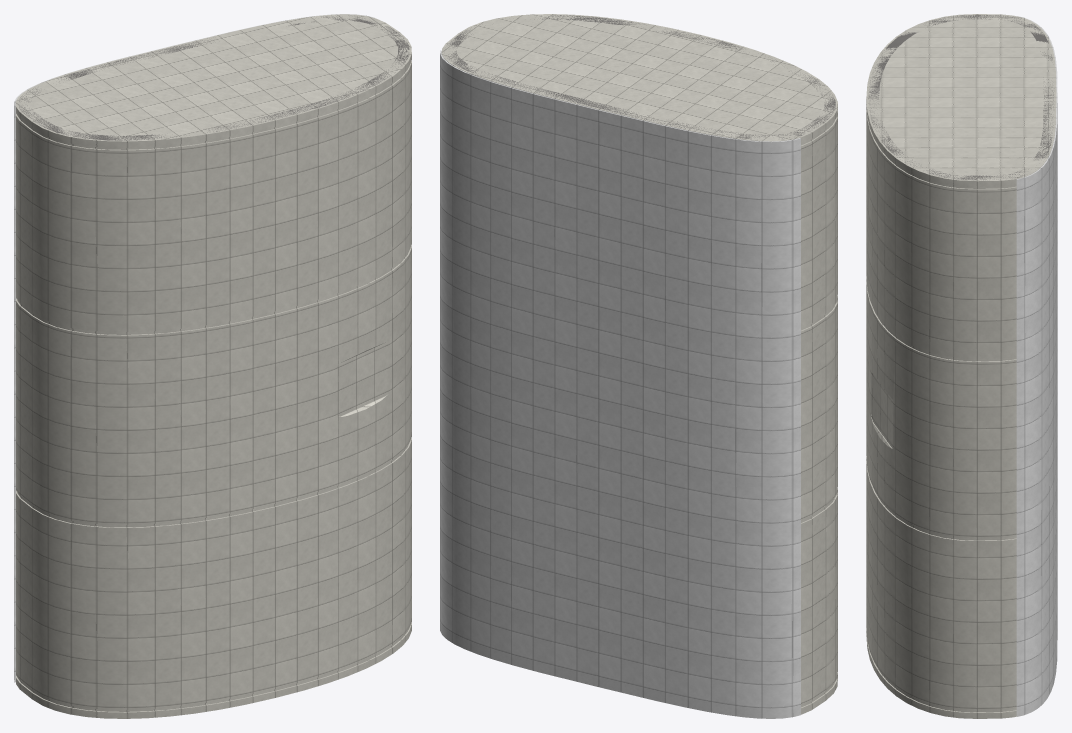
File: ax_aero_08_fs2x_fuselage_long.glb
3 renders of one model, left to right at view 1: azimuth 30°, elevation 25°; view 2: azimuth 150°, elevation 25°; view 3: azimuth 270°, elevation 25°, orthographic. The views are drawn at different scales.
Parts seen in each view (by area): view 1: fuselage, end_frames, belly_tiles; view 2: belly_tiles, fuselage, end_frames; view 3: fuselage, belly_tiles, end_frames.
Part boxes in pixels (left/top/right/bottom): fuselage: left=15, top=14, right=411, bottom=718; end_frames: left=19, top=15, right=409, bottom=140; belly_tiles: left=14, top=14, right=374, bottom=682; belly_tiles: left=440, top=50, right=800, bottom=718; fuselage: left=441, top=14, right=837, bottom=714; end_frames: left=447, top=15, right=835, bottom=139; fuselage: left=866, top=14, right=1056, bottom=718; belly_tiles: left=1016, top=16, right=1057, bottom=716; end_frames: left=868, top=14, right=1054, bottom=180.
Bounding box in the file's own units: 2.5 × 3.75 × 1.21.
3 materials, 3 textured.
